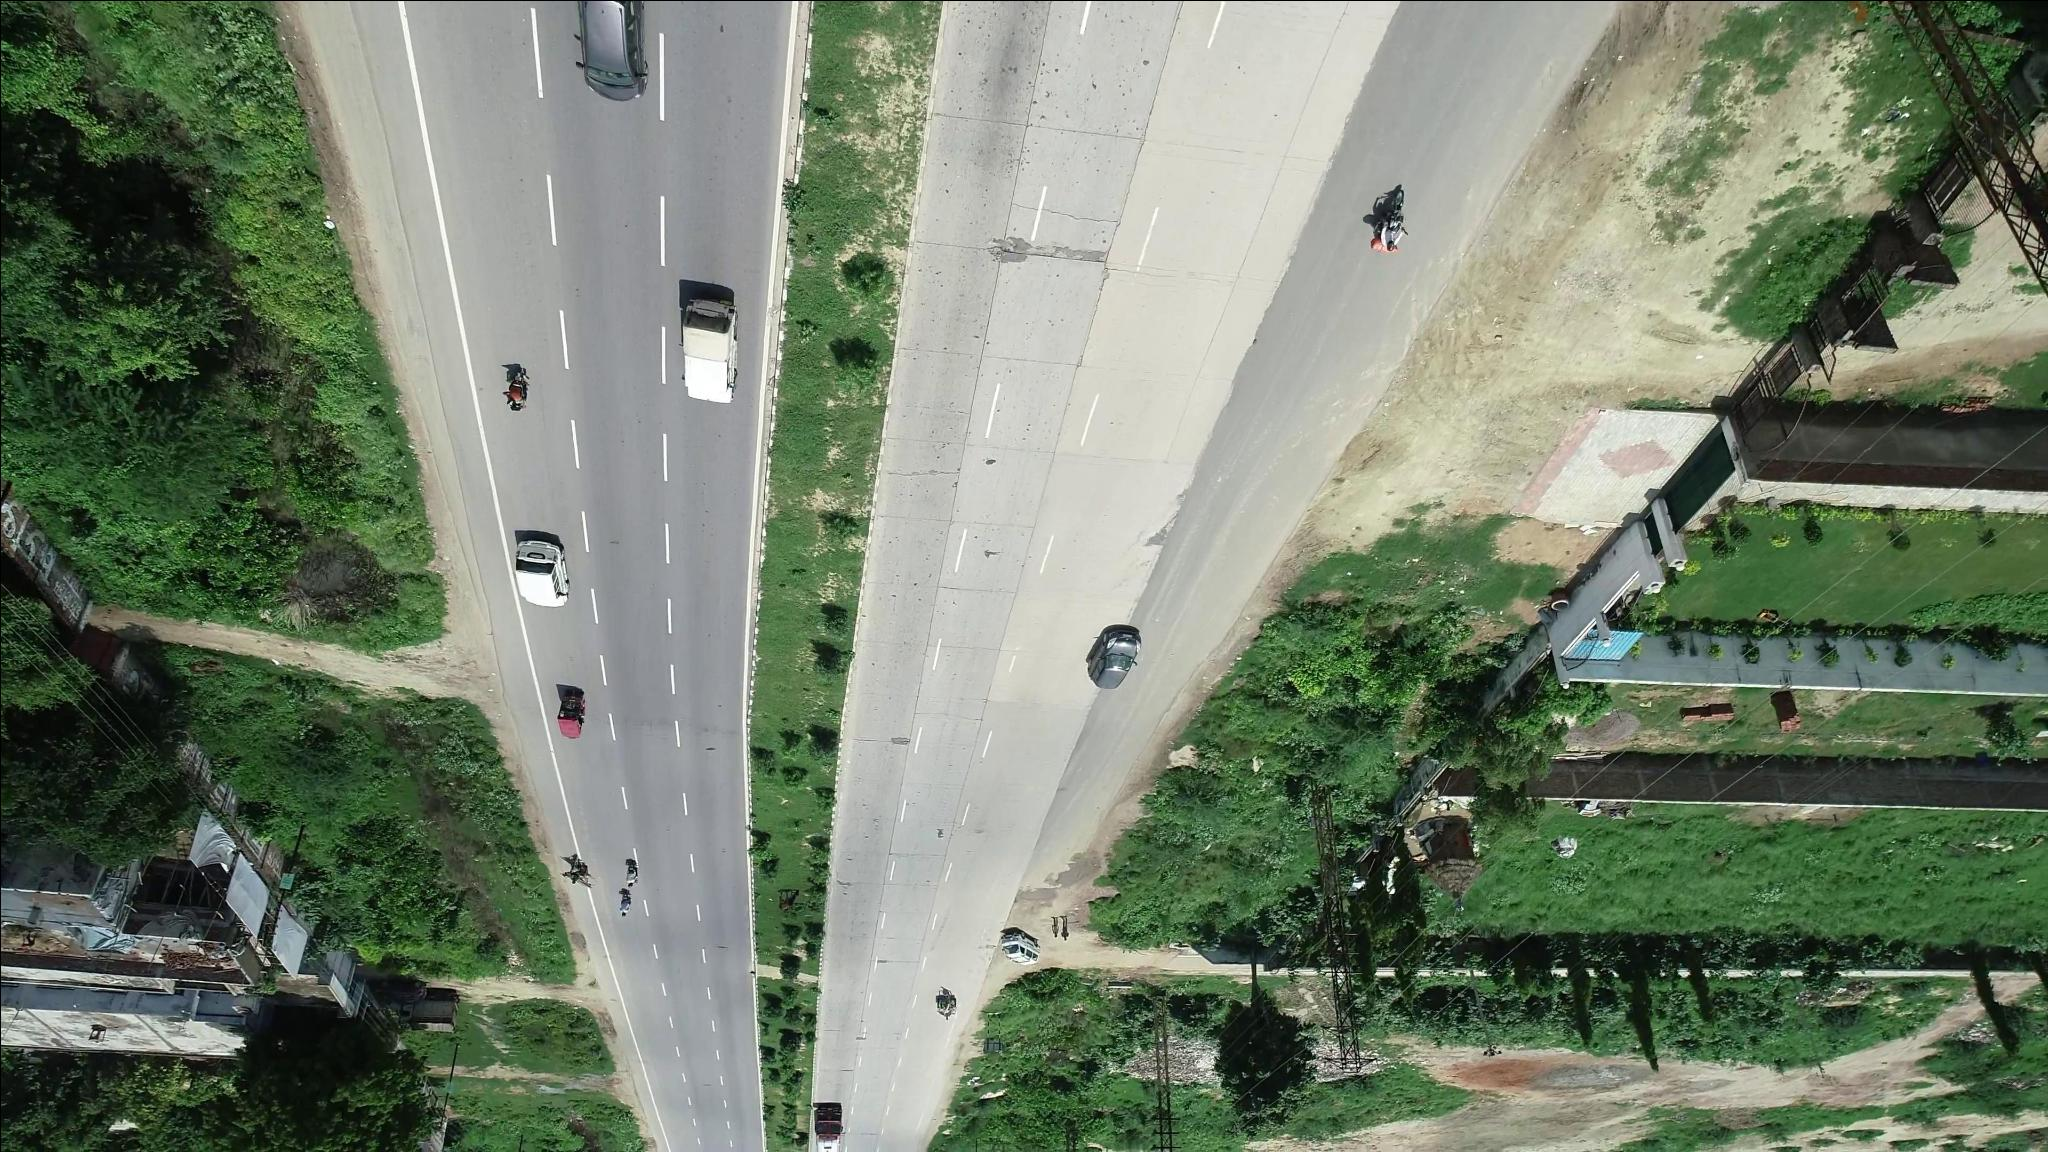Potholes: (994, 236, 1104, 263)
